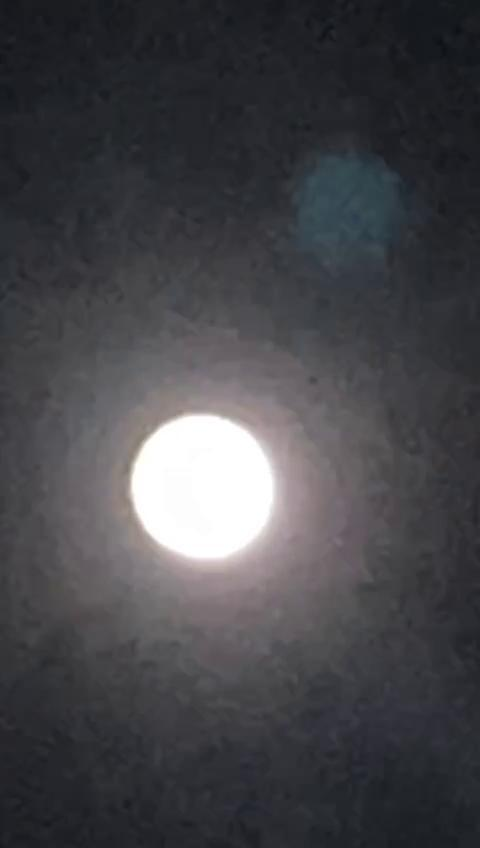moon: (122, 384, 289, 576)
